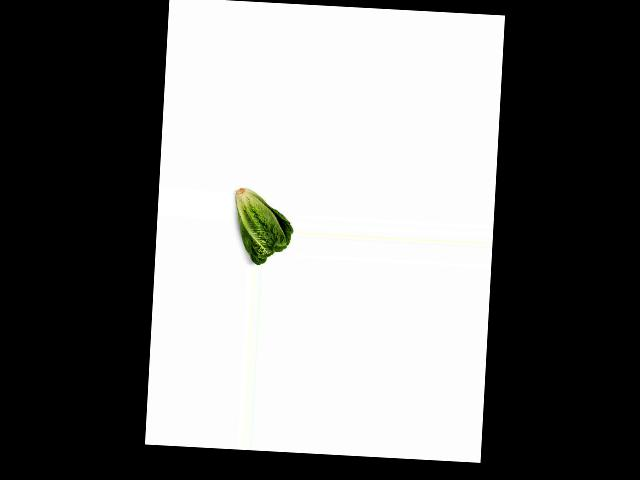lettuce: (230, 186, 295, 266)
